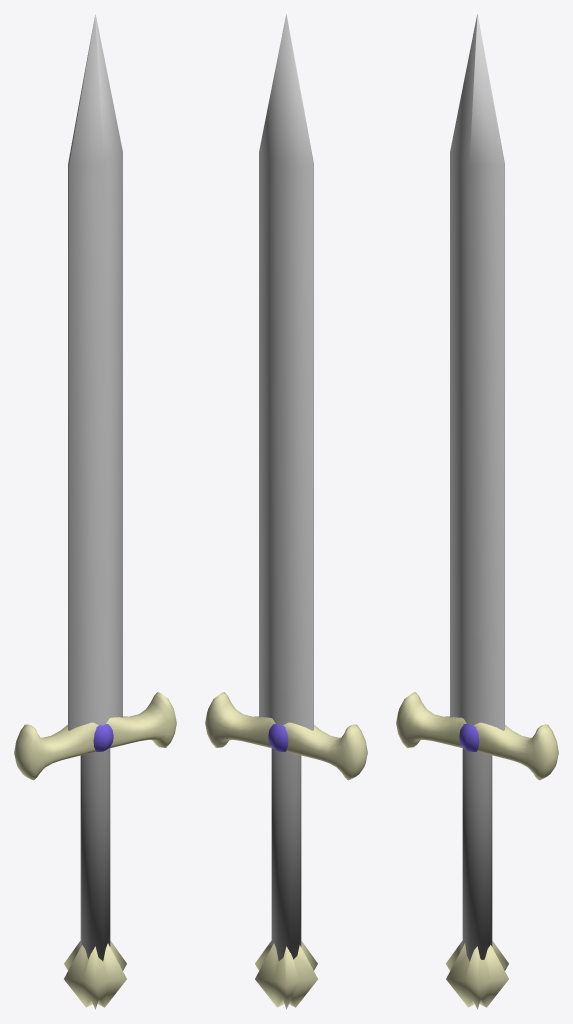
Rendered from sword.fbx.
3 renders of one model, left to right at view 1: azimuth 30°, elevation 25°; view 2: azimuth 150°, elevation 25°; view 3: azimuth 330°, elevation 25°, orthographic.
Parts seen in each view (by area): view 1: obj1, obj3, obj2, obj4, obj5; view 2: obj1, obj3, obj2, obj4, obj5; view 3: obj1, obj3, obj2, obj4, obj5.
Part boxes in pixels (x1,y1,x2,y2): obj1: (68, 14, 122, 730); obj3: (80, 748, 110, 961); obj2: (14, 692, 176, 780); obj4: (64, 940, 126, 1009); obj5: (93, 724, 113, 751); obj1: (259, 14, 313, 730); obj3: (271, 748, 301, 961); obj2: (205, 692, 367, 780); obj4: (255, 940, 317, 1009); obj5: (268, 724, 288, 751); obj1: (450, 14, 504, 730); obj3: (462, 748, 492, 961); obj2: (396, 692, 558, 780); obj4: (446, 940, 508, 1009); obj5: (459, 723, 479, 751).
Bounding box in the file's own units: 3.54 × 21.34 × 1.23.
